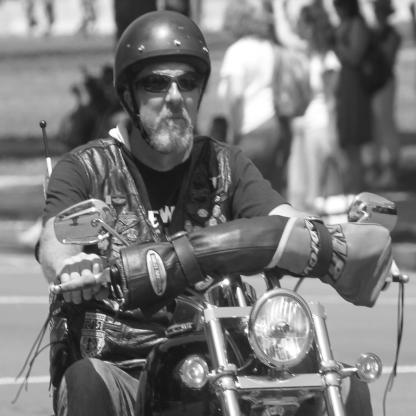Helmet: (109, 10, 213, 143)
